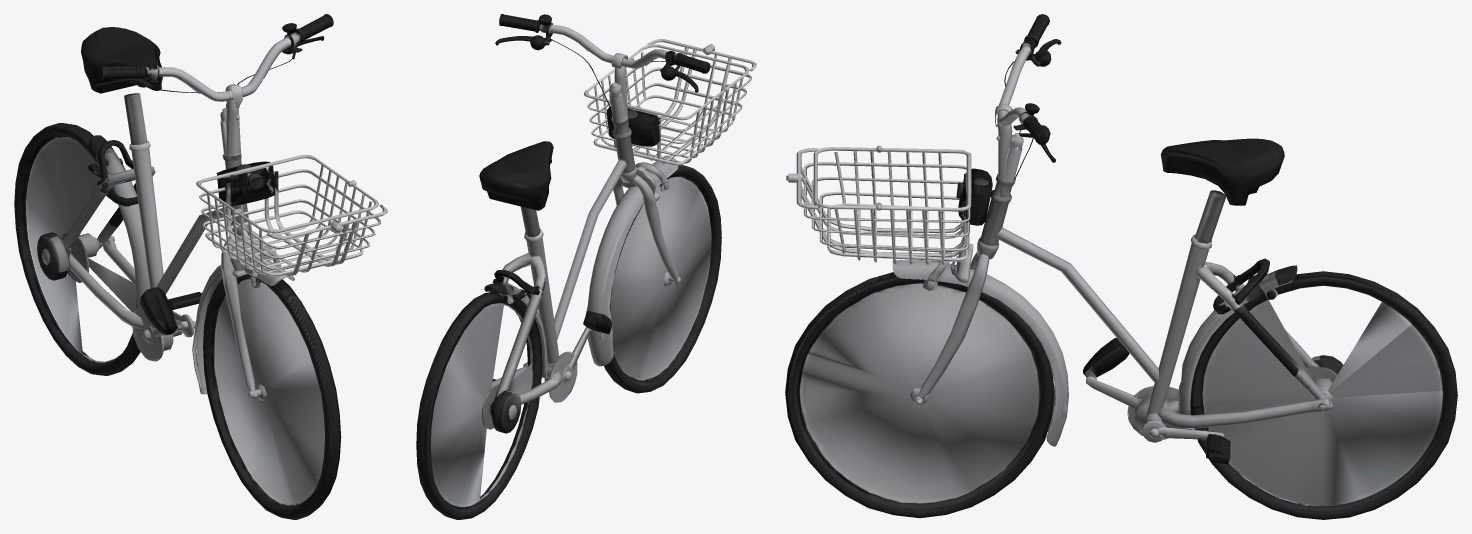
The model's file is toonstudio_city_bike.glb.
The picture shows the model from 3 angles, left to right: view 1: azimuth 30°, elevation 25°; view 2: azimuth 150°, elevation 25°; view 3: azimuth 270°, elevation 25°; orthographic projection. The views are drawn at different scales.
Parts seen in each view (by area): view 1: tripo_44a42412_221a_4d28_8fae_707139d32767; view 2: tripo_44a42412_221a_4d28_8fae_707139d32767; view 3: tripo_44a42412_221a_4d28_8fae_707139d32767.
Boxes of the visible parts, x1,y1,x2,y2 form: tripo_44a42412_221a_4d28_8fae_707139d32767: [14, 14, 387, 519]; tripo_44a42412_221a_4d28_8fae_707139d32767: [416, 14, 756, 519]; tripo_44a42412_221a_4d28_8fae_707139d32767: [785, 14, 1457, 519].
Size of the model in its own units: 0.743 by 1.33 by 1.8.
Materials: 1 (1 with a texture image).
